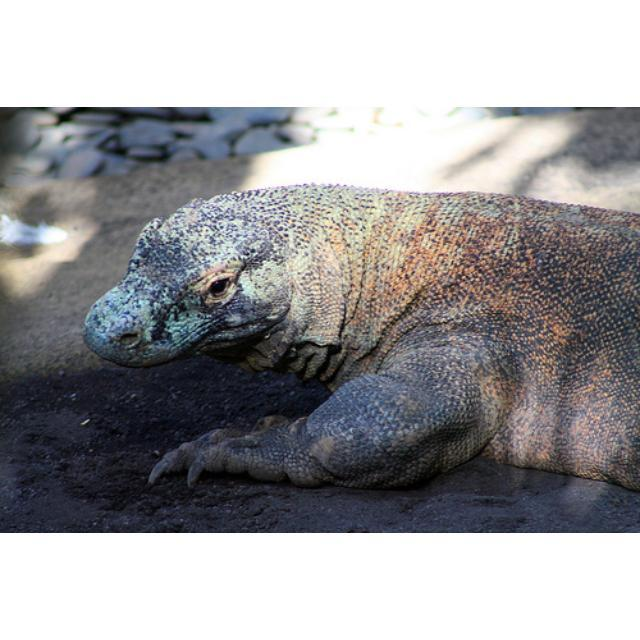KomodoDragon: (79, 186, 638, 495)
